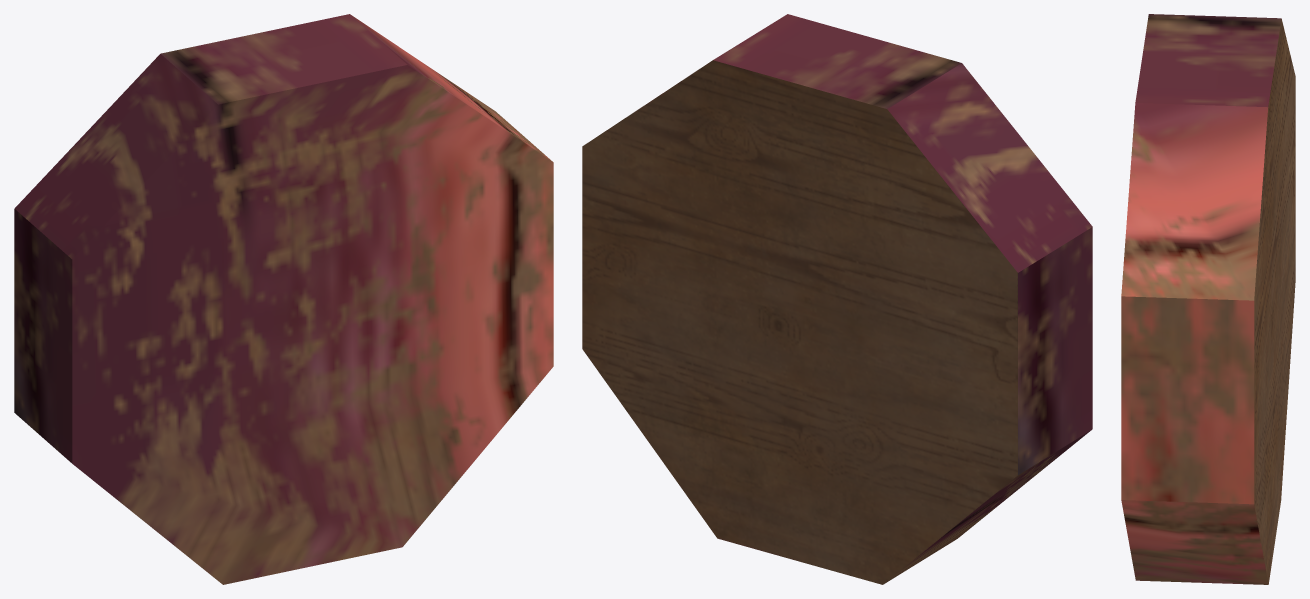
The model's file is Tapa_agujeroGranArbol.fbx.
3 views of the same model, side by side, from view 1: azimuth 30°, elevation 25°; view 2: azimuth 150°, elevation 25°; view 3: azimuth 270°, elevation 25° (orthographic).
Visible parts, largest first — view 1: Cube.002; view 2: Cube.002; view 3: Cube.002.
Part boxes in pixels (x1,y1,x2,y2): Cube.002: (14, 14, 553, 584); Cube.002: (582, 14, 1092, 584); Cube.002: (1121, 14, 1295, 584).
Size of the model in its own units: 87.49 by 85.75 by 28.22.
Materials: 1 (1 with a texture image).
